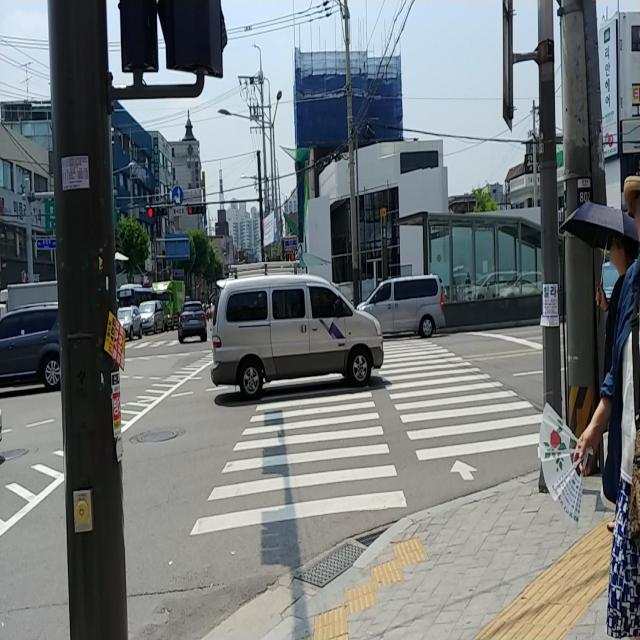횡단보도: (190, 333, 546, 540)
